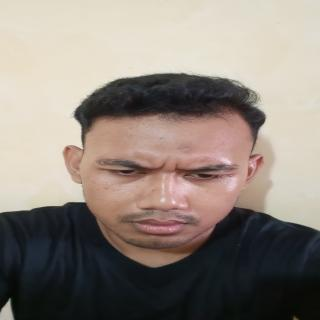Marah: (78, 104, 261, 250)
